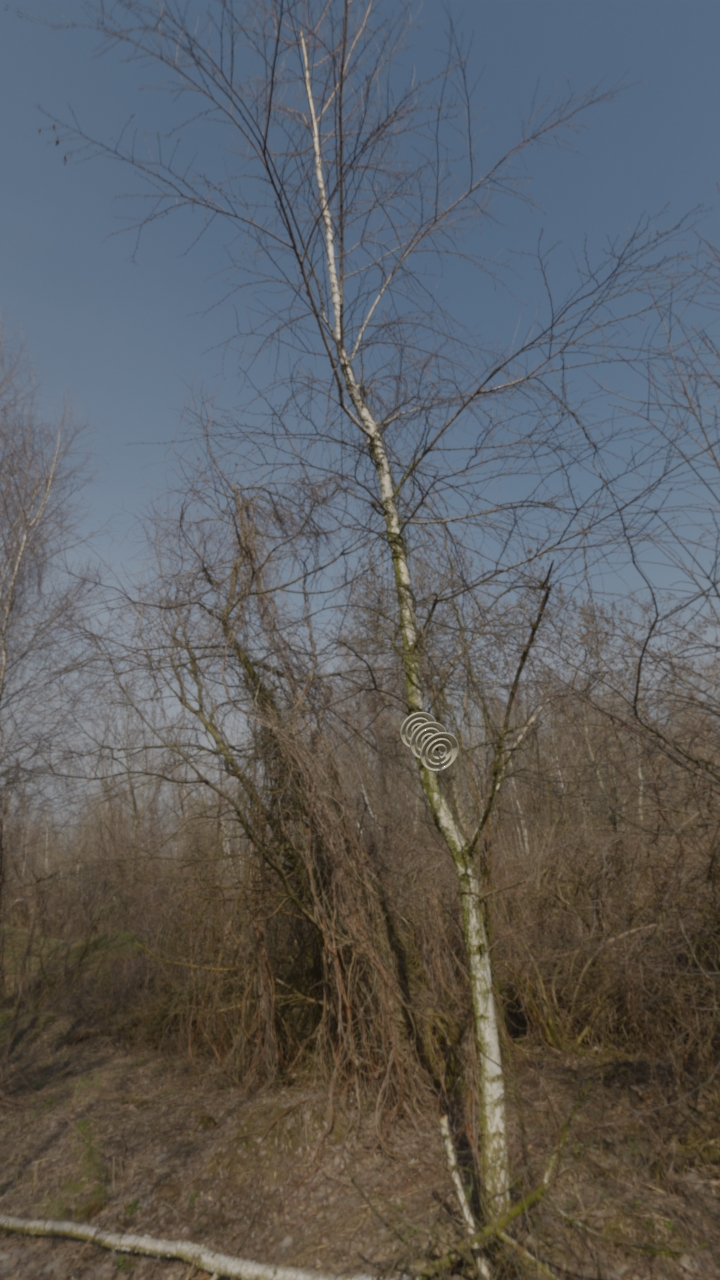ceramicinsulators: (400, 712, 459, 772)
